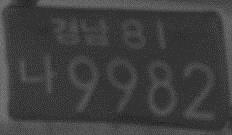1: (153, 18, 167, 52)
2: (181, 59, 218, 122)
8: (145, 58, 177, 117), (119, 17, 146, 52)
9: (105, 55, 139, 118), (67, 53, 100, 114)
경남_O: (49, 15, 110, 48)
나: (18, 52, 58, 97)
